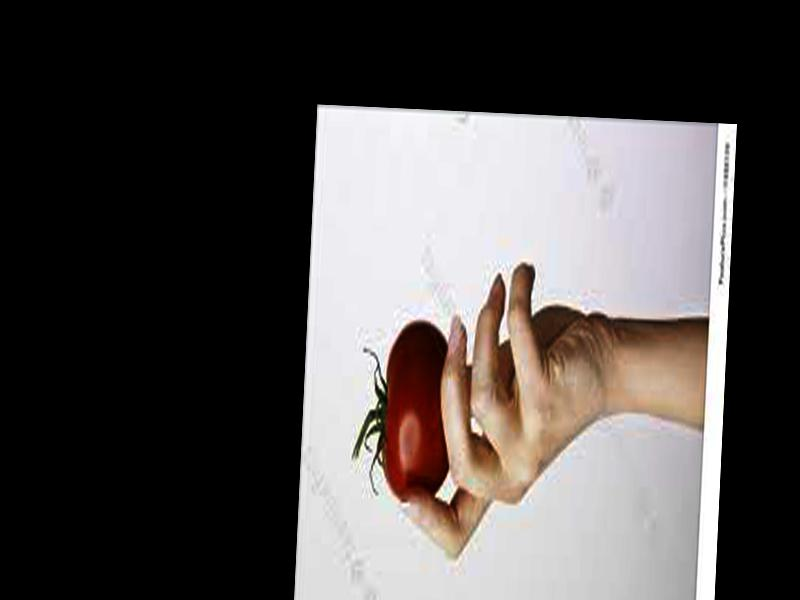Tomato: (351, 321, 454, 501)
